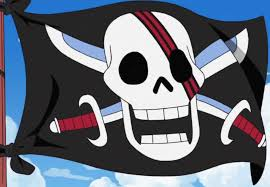Jolly Roger Flag: (7, 3, 270, 182)
